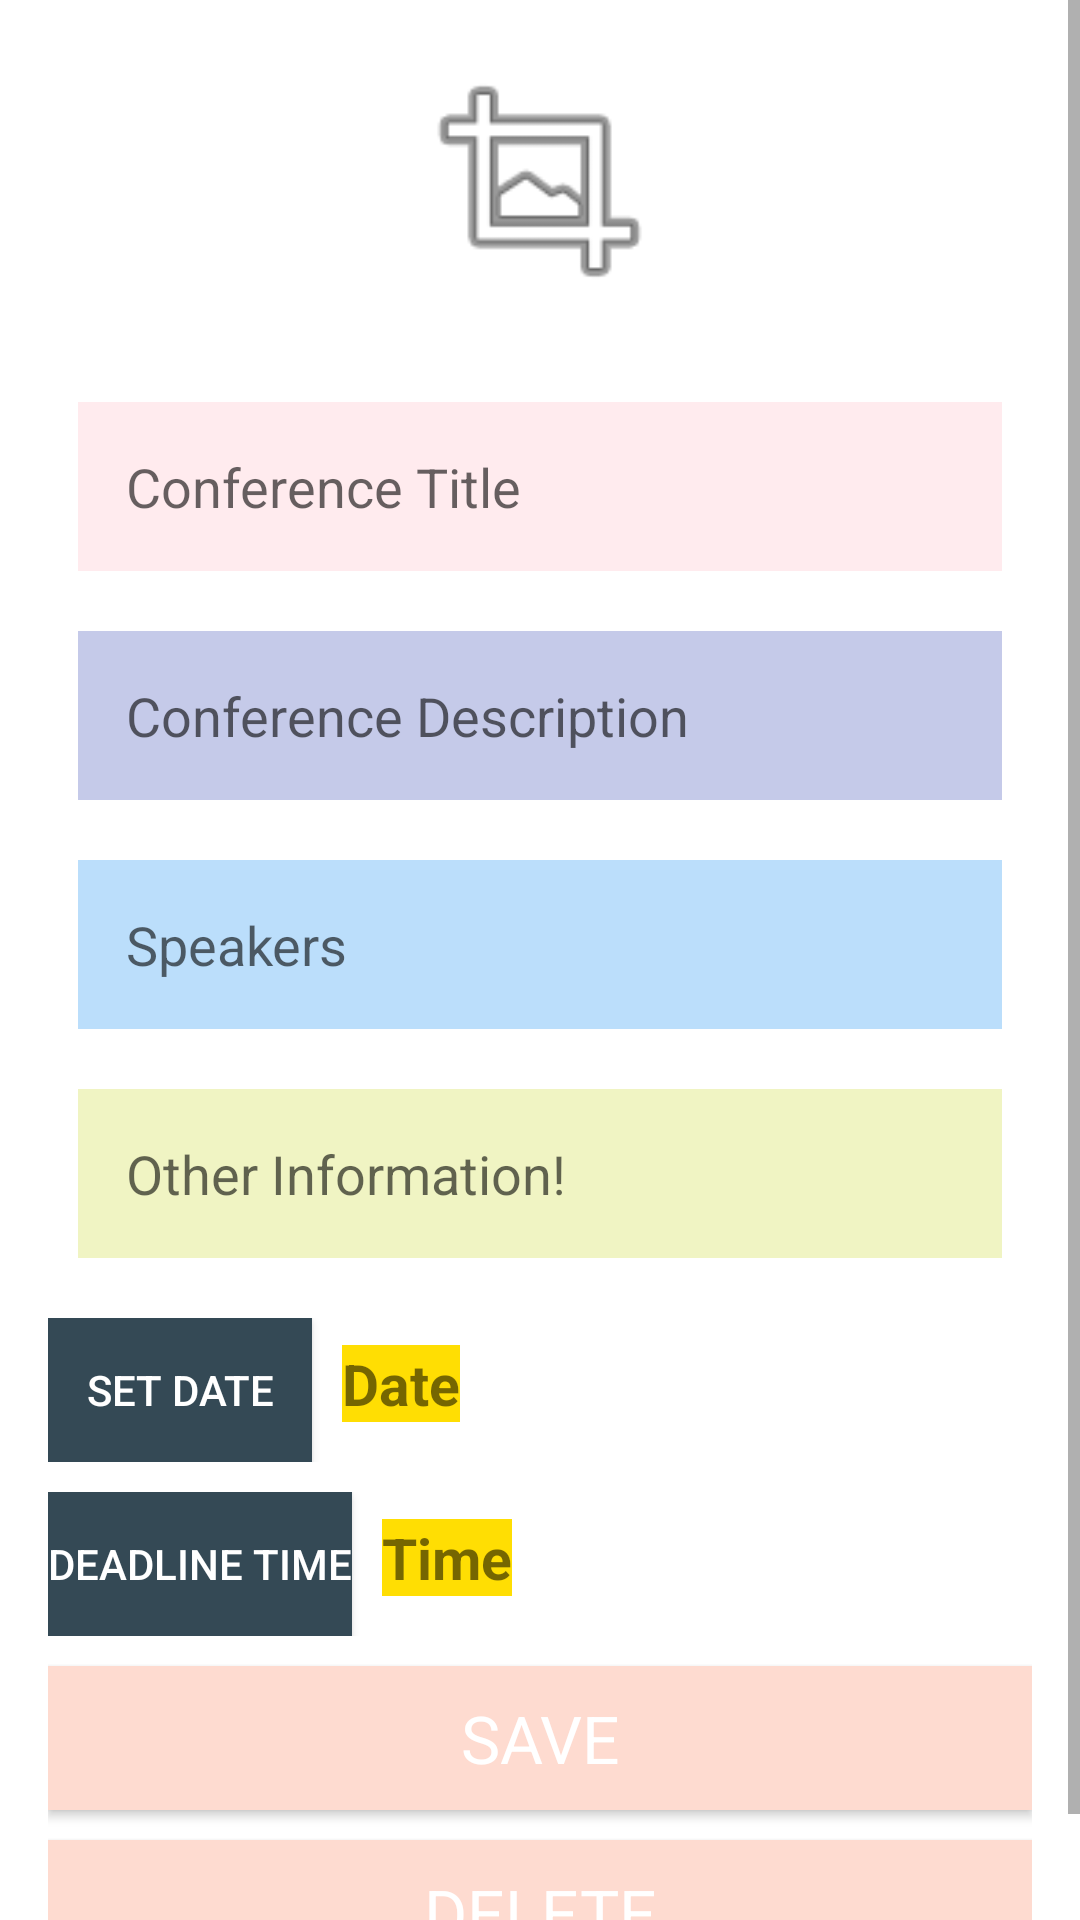

Point at icon controls on the screen. Image size 1080 × 1920, points as [x,y].
crop: [539,181]
